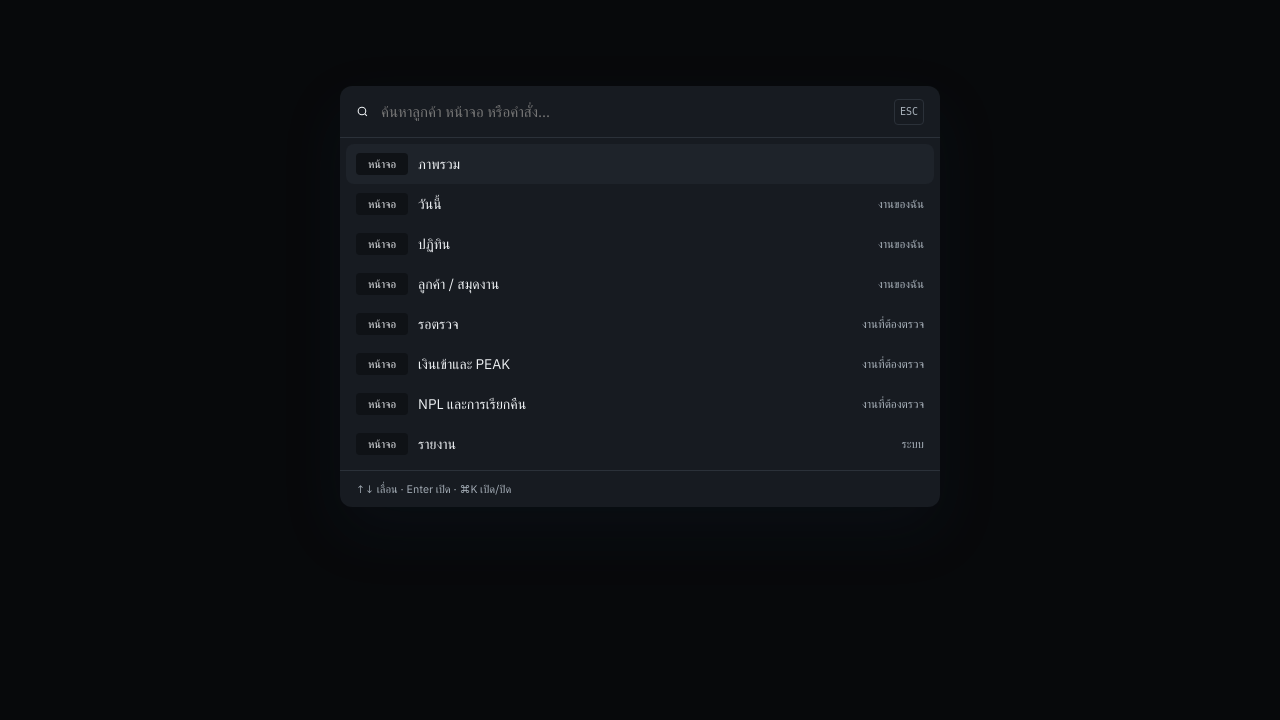
the customer command palette › shows payment totals on each customer card before opening its complete invoice list
Type "ป" into the field.
click(631, 112); type("ป")  # box [379, 101, 884, 122]
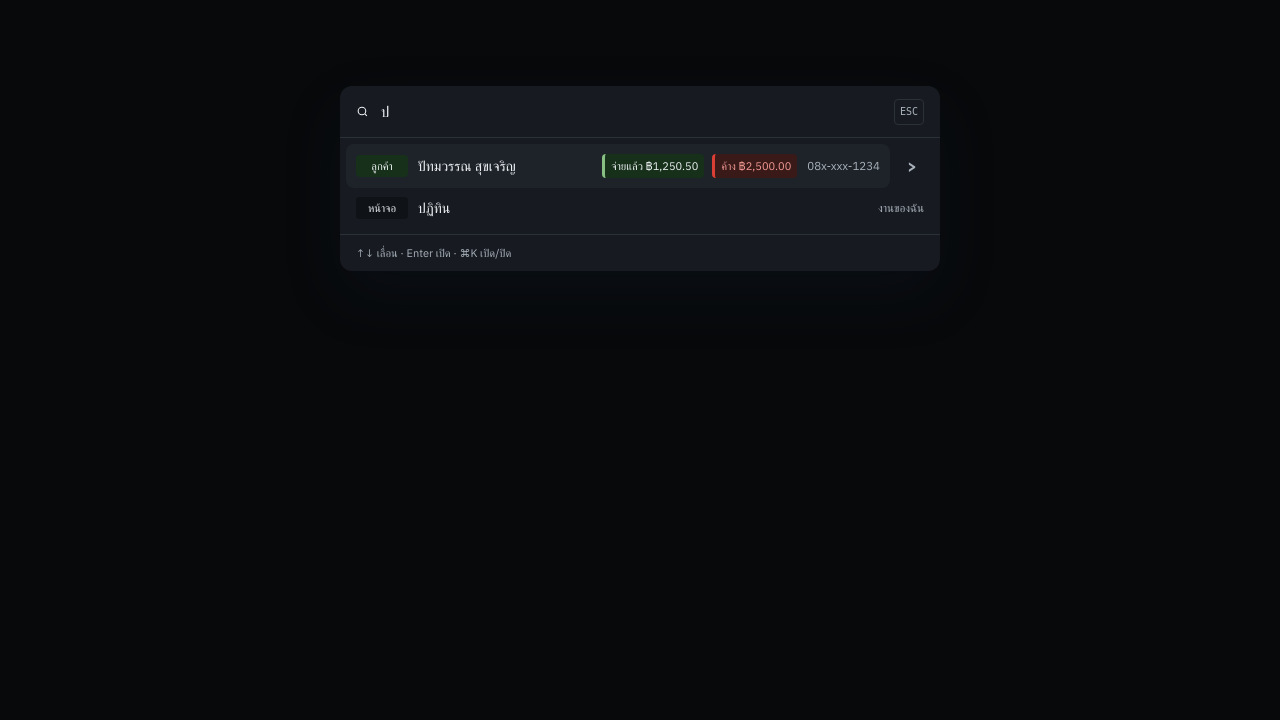
Expected: the text "IV-25" is not shown
Expected: the text "จ่ายแล้ว ฿1,250.50" is shown, [602, 154, 704, 178]
Expected: the text "ค้าง ฿2,500.00" is shown, [712, 154, 797, 178]
Click the button named "ดูสถานะใบแจ้งหนี้ของ ปัทมวรรณ สุขเจริญ".
click(912, 166)  # box [890, 144, 934, 188]
(page scrolled)
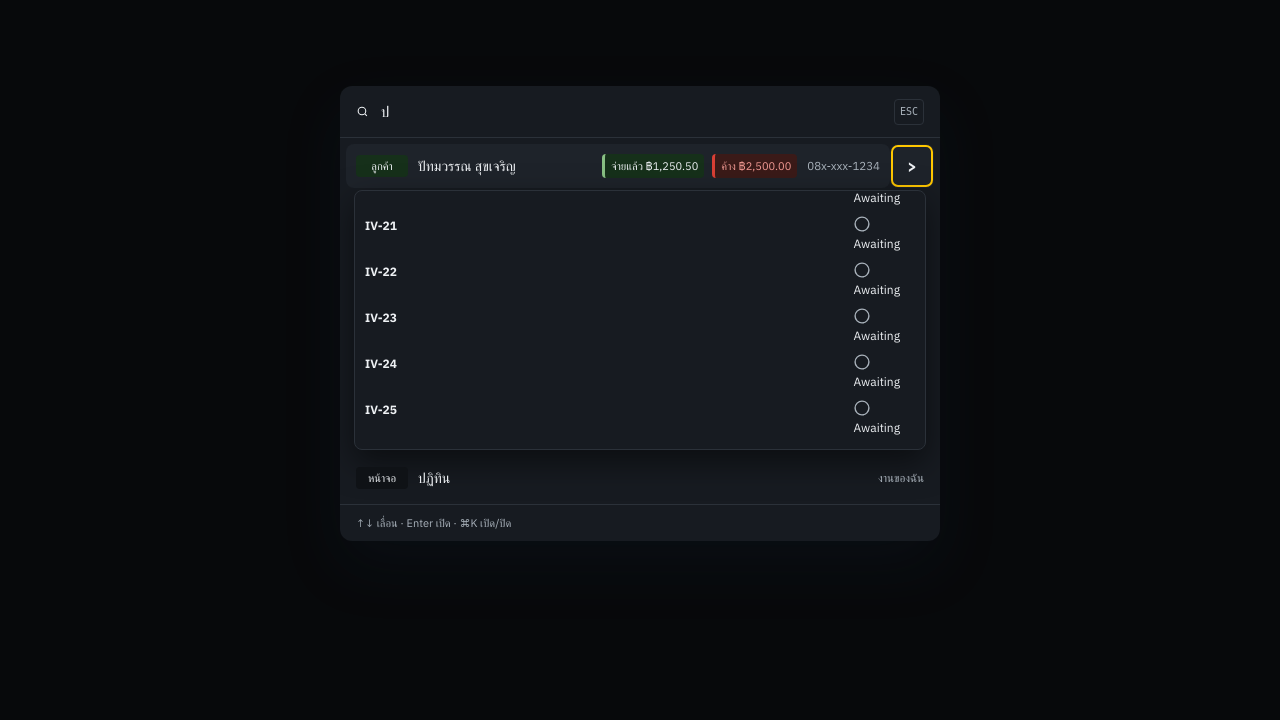
Expected: the text "IV-25" is shown, [365, 402, 397, 417]
